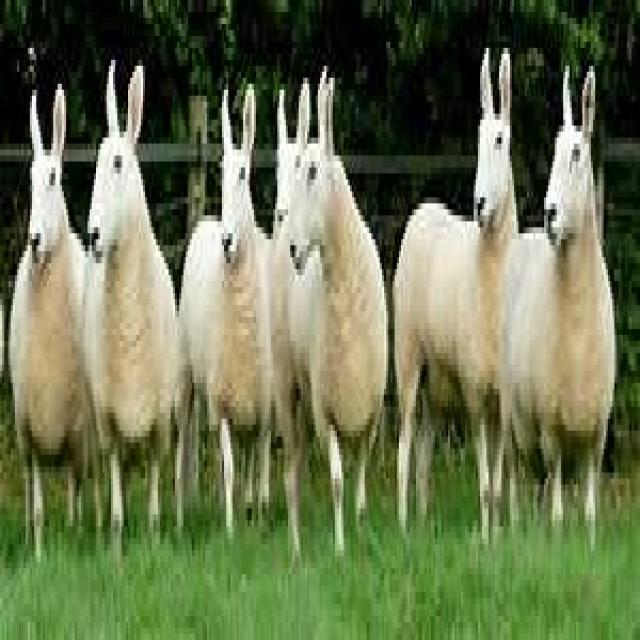sheep: (391, 42, 518, 544), (497, 60, 617, 550), (286, 60, 388, 556), (83, 54, 177, 556), (173, 78, 273, 538), (7, 78, 102, 562)
